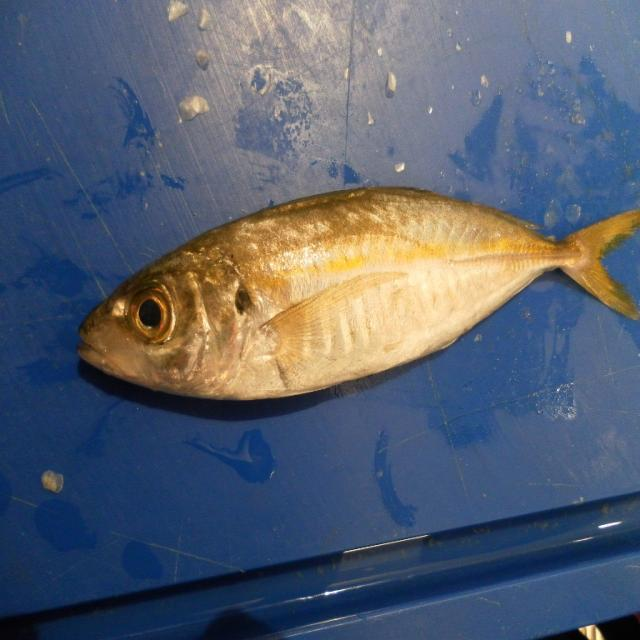Hourse-Mackerel-istavrit-: (77, 187, 640, 404)
